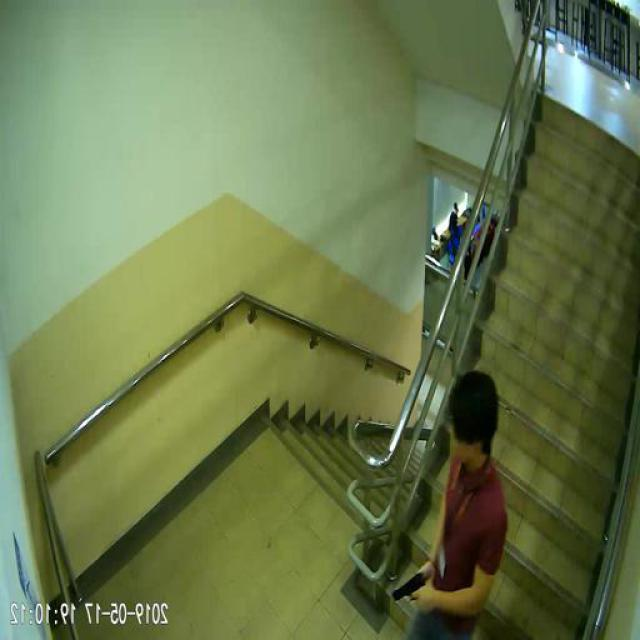Gun: (395, 571, 429, 611)
